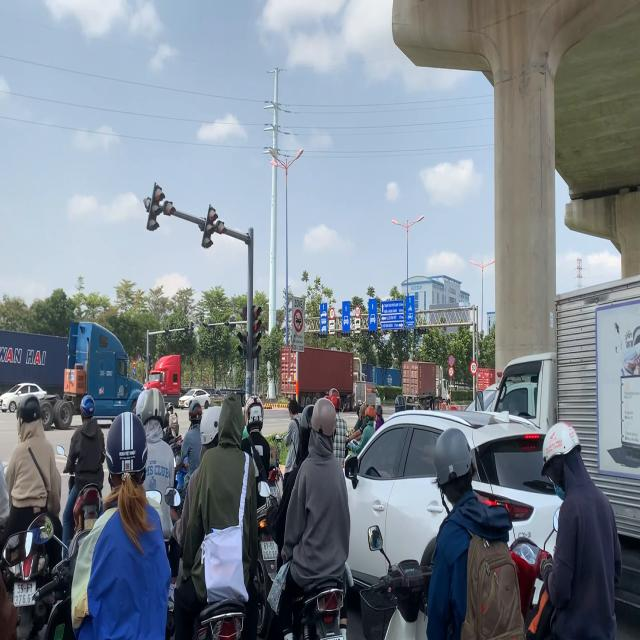Cam con lai: (294, 306, 304, 332), (448, 366, 454, 377)
Cam dung va do: (448, 354, 454, 366)
Cam nguoc chieu: (132, 359, 136, 366)
Hieu lenh: (132, 368, 136, 376)
Toc do toi da: (469, 360, 478, 376), (354, 305, 360, 318), (329, 308, 335, 319)
